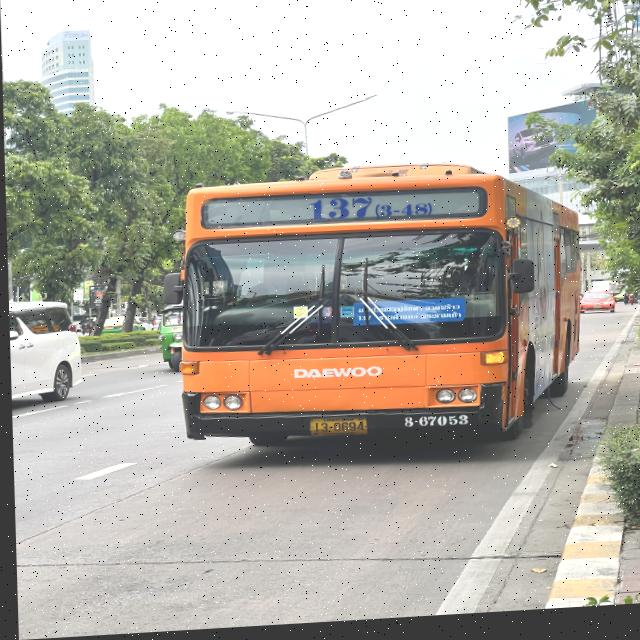BMTA-bus: (174, 170, 582, 452)
Bus Line Number: (299, 195, 438, 230)
Bus Side Number: (395, 415, 475, 437)
Destination Sign: (351, 302, 466, 333)
